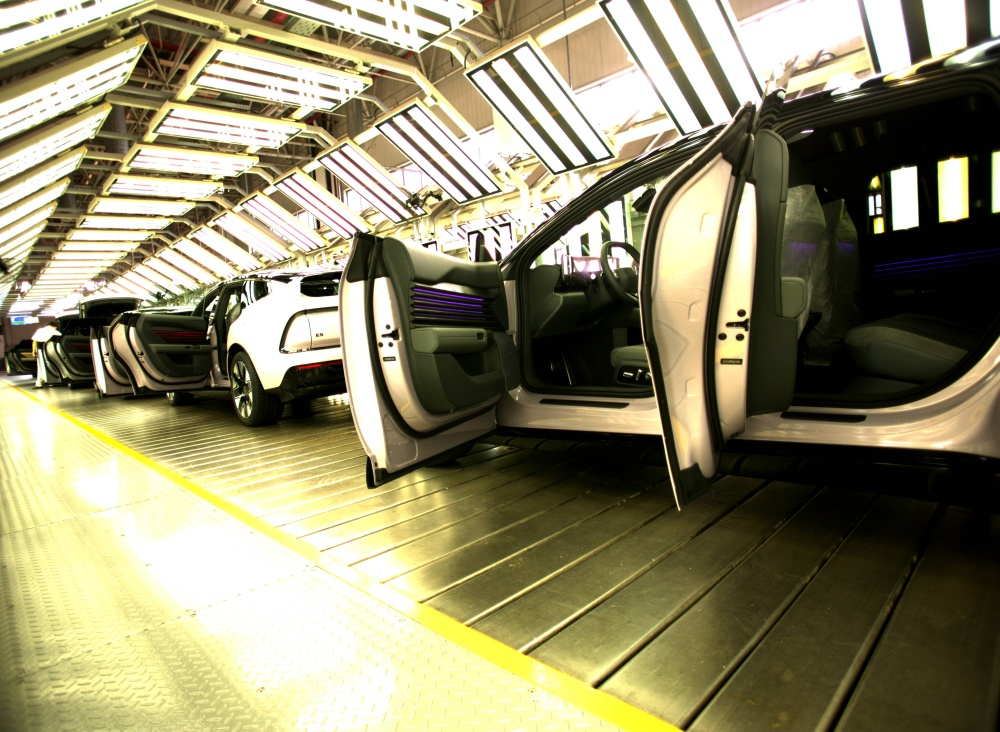armrest_color: (409, 326, 490, 354)
panel_color: (407, 277, 489, 329)
